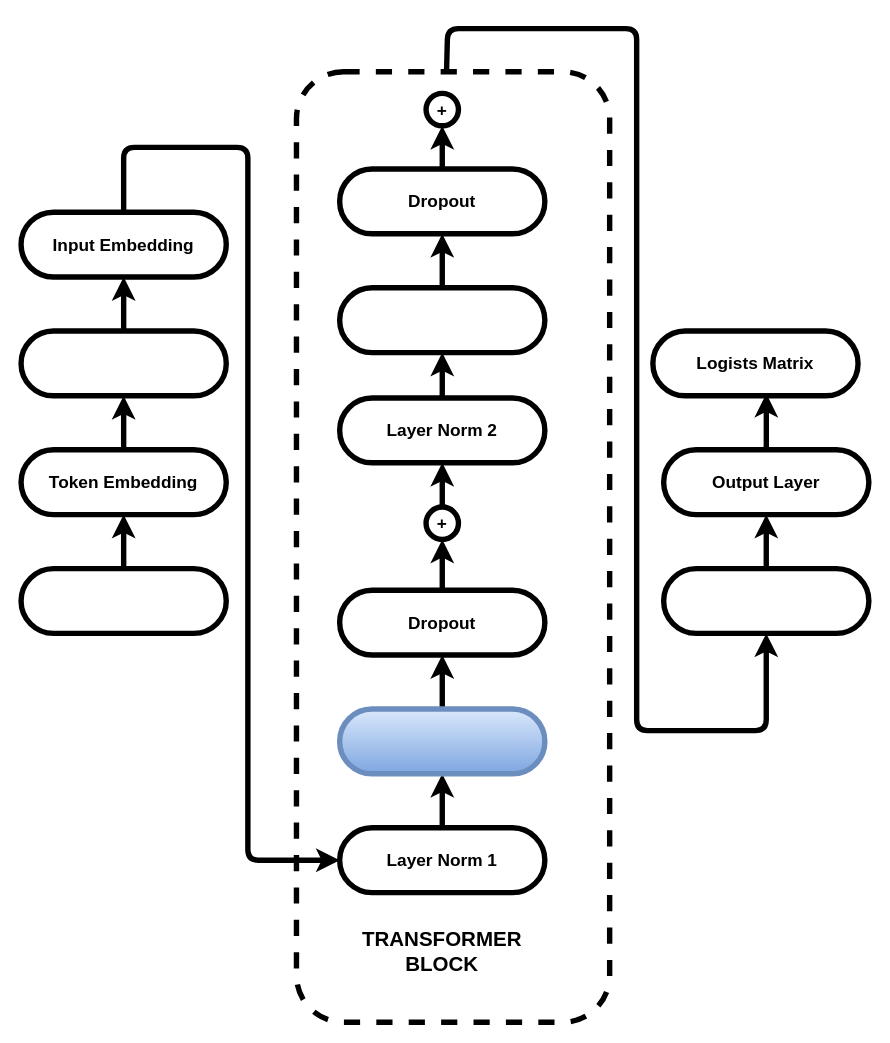
This 890x1043 diagram has some shape labels left out. The shapes that lost their labels are listed below. From the top down, each one's centre as x and y in pixels, then its label:
pixel 441 320: Feed forward NN
pixel 123 363: Positional Embedding
pixel 123 600: Tokenized Text
pixel 765 600: Final Layer Norm
pixel 441 741: Multi head attention
